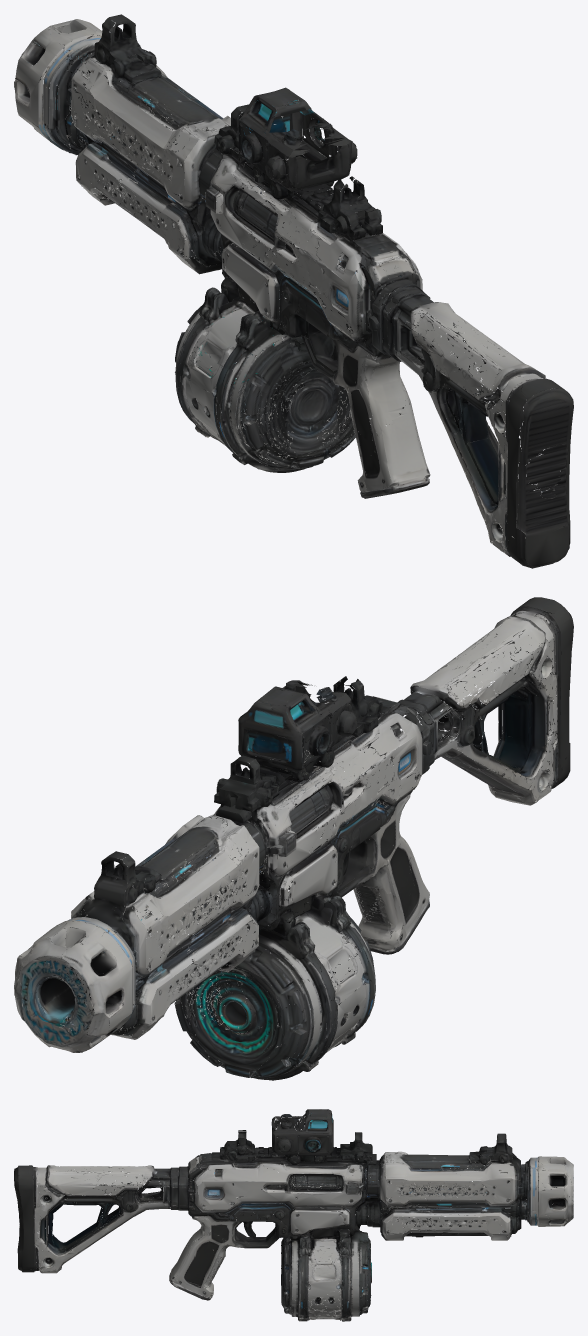
File: em12g2_viewmodel_reload.glb
3 renders of one model, top to bottom at view 1: azimuth 30°, elevation 25°; view 2: azimuth 150°, elevation 25°; view 3: azimuth 270°, elevation 25°, orthographic. The views are drawn at different scales.
Visible parts, largest first — view 1: Body, DetachableMagazine; view 2: Body, DetachableMagazine; view 3: Body, DetachableMagazine.
Boxes of the visible parts, box(x1,y1,x2,y2) form: Body: box(14, 14, 573, 568); DetachableMagazine: box(175, 288, 375, 472); Body: box(14, 597, 573, 1052); DetachableMagazine: box(174, 886, 375, 1080); Body: box(14, 1109, 573, 1318); DetachableMagazine: box(281, 1222, 371, 1321).
Bounding box in the file's own units: 0.1635 × 0.361 × 0.8999.
1 material, 1 textured.
